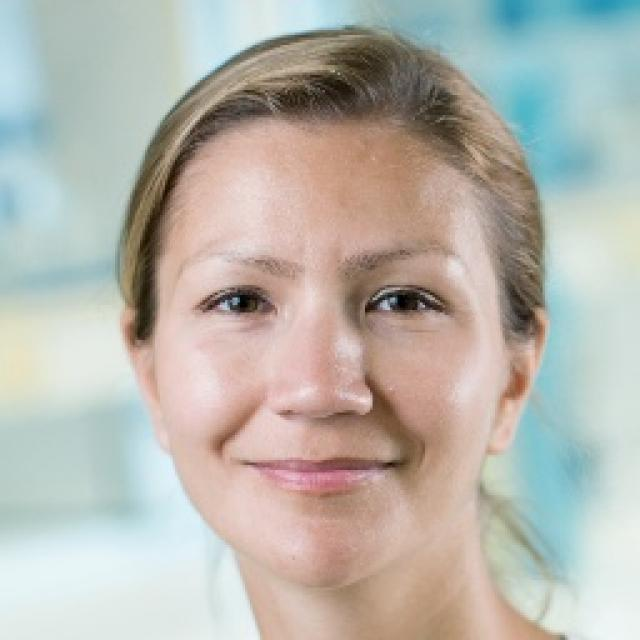earlobe: (489, 307, 549, 452), (120, 308, 172, 454)
